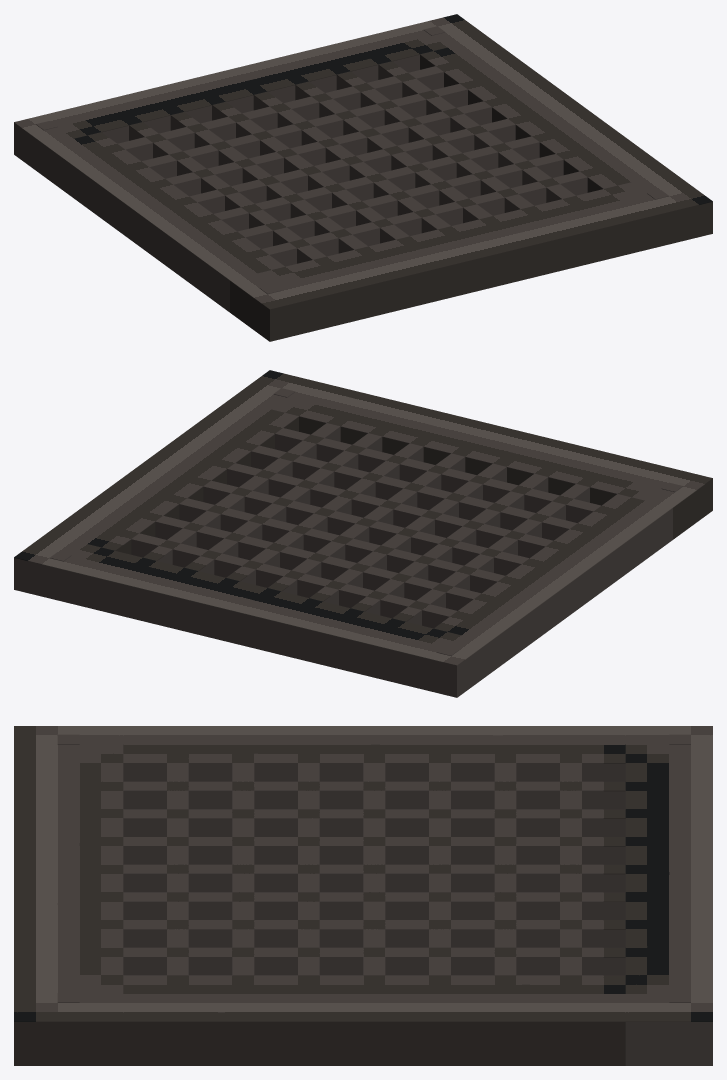
File: CMU3DHunterCatwalkAltCloud.glb
3 views of the same model, one above another, from view 1: azimuth 30°, elevation 25°; view 2: azimuth 150°, elevation 25°; view 3: azimuth 270°, elevation 25° (orthographic). The views are drawn at different scales.
Visible parts, largest first — view 1: original south rim detail, structural south rim, original north rim detail, original east rim detail, original west rim detail, structural west rim, structural north rim, east west rib source pixels 24, east west rib source pixels 15, north south rib source pixels 12, north south rib source pixels 15, north south rib source pixels 9 (+24 smaller); view 2: original south rim detail, structural north rim, original north rim detail, original east rim detail, original west rim detail, structural west rim, structural south rim, east west rib source pixels 6, east west rib source pixels 15, east west rib source pixels 24, north south rib source pixels 18, east west rib source pixels 18 (+24 smaller); view 3: original south rim detail, original north rim detail, original east rim detail, structural east rim, original west rim detail, structural west rim, north south grate rib 6, north south grate rib 12, north south grate rib 15, north south grate rib 24, north south grate rib 9, north south grate rib 18 (+17 smaller).
Boxes of the visible parts, x1,y1,x2,y2 form: original south rim detail: (230, 172, 712, 309); structural south rim: (230, 202, 712, 341); original north rim detail: (14, 14, 488, 145); original east rim detail: (420, 37, 672, 188); original west rim detail: (46, 132, 284, 280); structural west rim: (46, 146, 229, 312); structural north rim: (14, 55, 419, 177); east west rib source pixels 24: (261, 171, 587, 254); east west rib source pixels 15: (189, 118, 515, 202); north south rib source pixels 12: (212, 101, 409, 239); north south rib source pixels 15: (254, 91, 450, 229); north south rib source pixels 9: (170, 112, 367, 249); original south rim detail: (230, 370, 712, 507); structural north rim: (14, 558, 488, 697); original north rim detail: (14, 534, 488, 665); original east rim detail: (46, 399, 298, 550); original west rim detail: (434, 494, 672, 642); structural west rim: (489, 508, 672, 674); structural south rim: (299, 416, 712, 539); east west rib source pixels 6: (131, 533, 456, 616); east west rib source pixels 15: (203, 480, 528, 564); east west rib source pixels 24: (275, 428, 600, 511); north south rib source pixels 18: (226, 443, 423, 581); east west rib source pixels 18: (227, 463, 553, 546); original south rim detail: (14, 726, 123, 1021); original north rim detail: (625, 726, 712, 1021); original east rim detail: (123, 975, 625, 1021); structural east rim: (123, 1022, 625, 1065); original west rim detail: (123, 726, 625, 763); structural west rim: (123, 763, 625, 781); north south grate rib 6: (123, 791, 625, 809); north south grate rib 12: (123, 846, 625, 864); north south grate rib 15: (123, 874, 625, 892); north south grate rib 24: (123, 957, 625, 975); north south grate rib 9: (123, 819, 625, 836); north south grate rib 18: (123, 902, 625, 919).
Size of the model in its own units: 1 by 0.071 by 1.
Materials: 8 (6 with a texture image).
